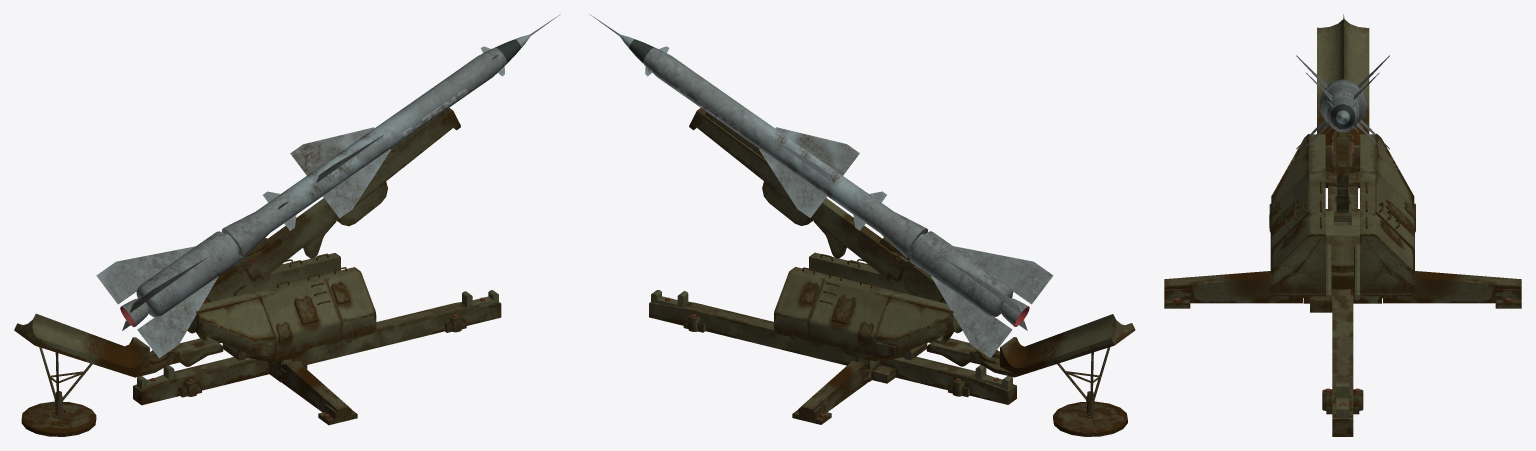
The model's file is s75_compleks.fbx.
3 renders of one model, left to right at view 1: azimuth 30°, elevation 25°; view 2: azimuth 150°, elevation 25°; view 3: azimuth 270°, elevation 25°, orthographic. The views are drawn at different scales.
Parts seen in each view (by area): view 1: nos, part2, part1, base1, part7, detail5, base2, detail2 R, part5, detail7, detail4; view 2: nos, part2, part1, base1, part7, detail5, base2, detail2 L, part5, detail7, detail4; view 3: part2, base2, part7, base1, nos, part1, base3, detail3, part5, part4, detail2 R, detail2 L (+2 smaller).
Part boxes in pixels (x1,y1,x2,y2): nos: [96, 14, 560, 358]; part2: [190, 253, 376, 358]; part1: [187, 107, 460, 344]; base1: [133, 302, 501, 405]; part7: [14, 313, 167, 377]; detail5: [21, 391, 96, 436]; base2: [281, 361, 357, 425]; detail2 R: [276, 282, 350, 343]; part5: [172, 338, 223, 366]; detail7: [137, 290, 498, 389]; detail4: [39, 347, 92, 401]; nos: [589, 14, 1053, 357]; part2: [774, 252, 959, 358]; part1: [689, 108, 962, 344]; base1: [649, 301, 1016, 404]; part7: [981, 314, 1135, 377]; detail5: [1053, 391, 1127, 436]; base2: [792, 361, 868, 424]; detail2 L: [800, 282, 873, 342]; part5: [926, 338, 977, 366]; detail7: [651, 290, 1012, 389]; detail4: [1057, 347, 1110, 400]; part2: [1269, 133, 1415, 296]; base2: [1164, 271, 1521, 308]; part7: [1317, 14, 1369, 187]; base1: [1293, 221, 1392, 436]; nos: [1296, 55, 1389, 149]; part1: [1332, 130, 1353, 213]; base3: [1325, 235, 1359, 289]; detail3: [1325, 244, 1360, 300]; part5: [1328, 180, 1357, 221]; part4: [1325, 209, 1359, 235]; detail2 R: [1269, 199, 1304, 244]; detail2 L: [1381, 199, 1415, 244].
Size of the model in its own units: 417 by 212 by 192.
